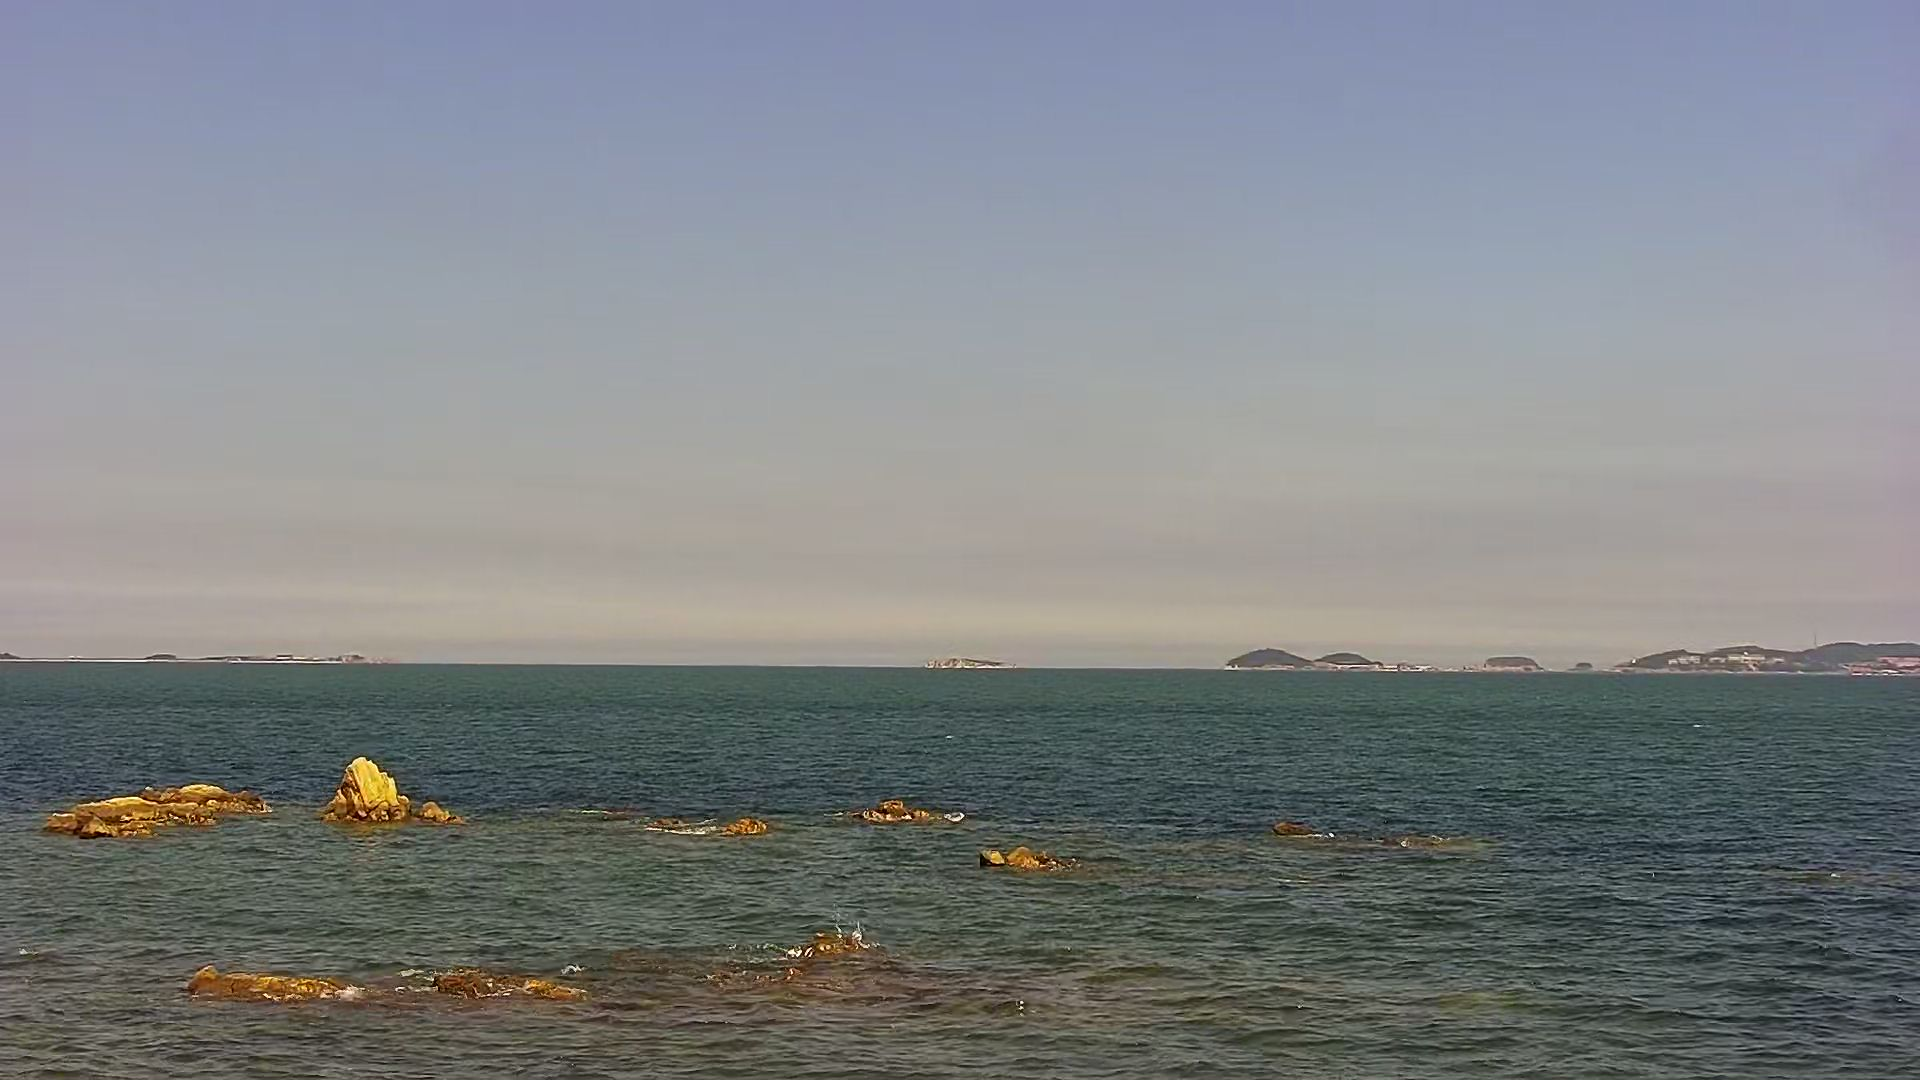rock: (32, 771, 280, 835), (1625, 632, 1920, 680), (398, 947, 615, 1013), (175, 945, 365, 1015), (320, 752, 472, 835), (633, 796, 783, 843), (781, 922, 899, 975), (836, 789, 973, 831), (133, 644, 389, 665), (1263, 825, 1478, 849), (971, 844, 1092, 884), (1213, 636, 1317, 673), (1315, 644, 1415, 680), (913, 646, 1025, 673), (1472, 644, 1552, 673), (1568, 649, 1596, 674)
